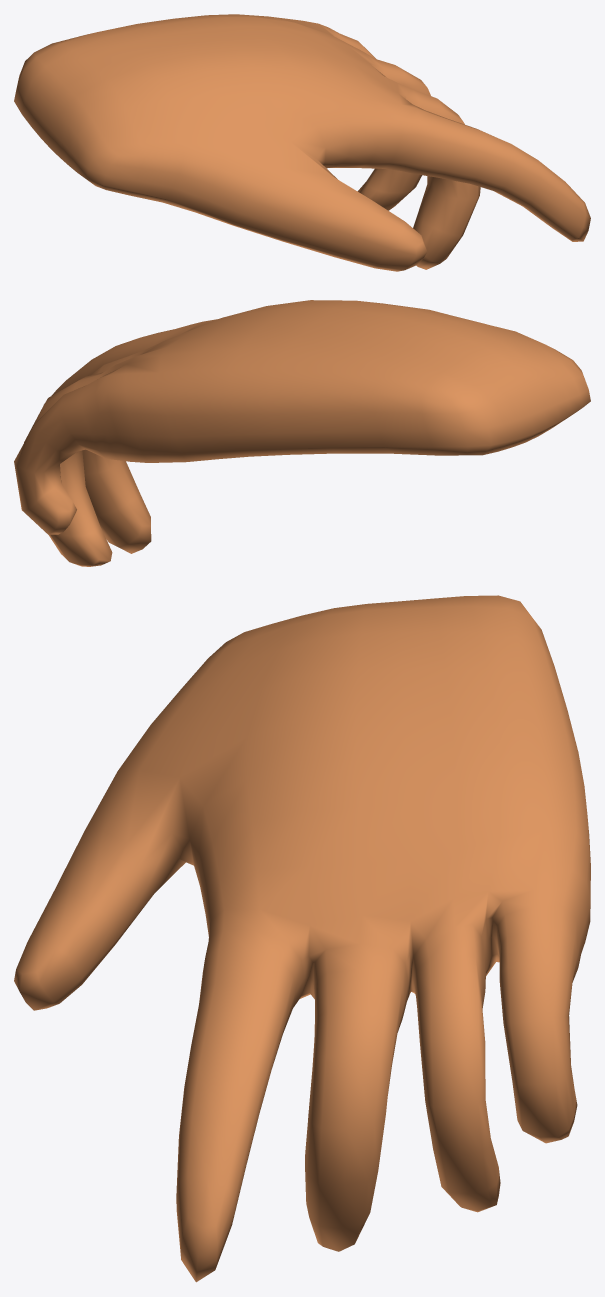
The model's file is hands_basic_left.glb.
The picture shows the model from 3 angles, top to bottom: view 1: azimuth 30°, elevation 25°; view 2: azimuth 150°, elevation 25°; view 3: azimuth 270°, elevation 25°; orthographic projection. The views are drawn at different scales.
Parts seen in each view (by area): view 1: hands_basic_left; view 2: hands_basic_left; view 3: hands_basic_left.
Part boxes in pixels (x1=…): hands_basic_left: x1=14, y1=14, x2=590, y2=271; hands_basic_left: x1=14, y1=300, x2=590, y2=566; hands_basic_left: x1=14, y1=595, x2=590, y2=1282.
Size of the model in its own units: 0.2178 by 0.1137 by 0.1435.
